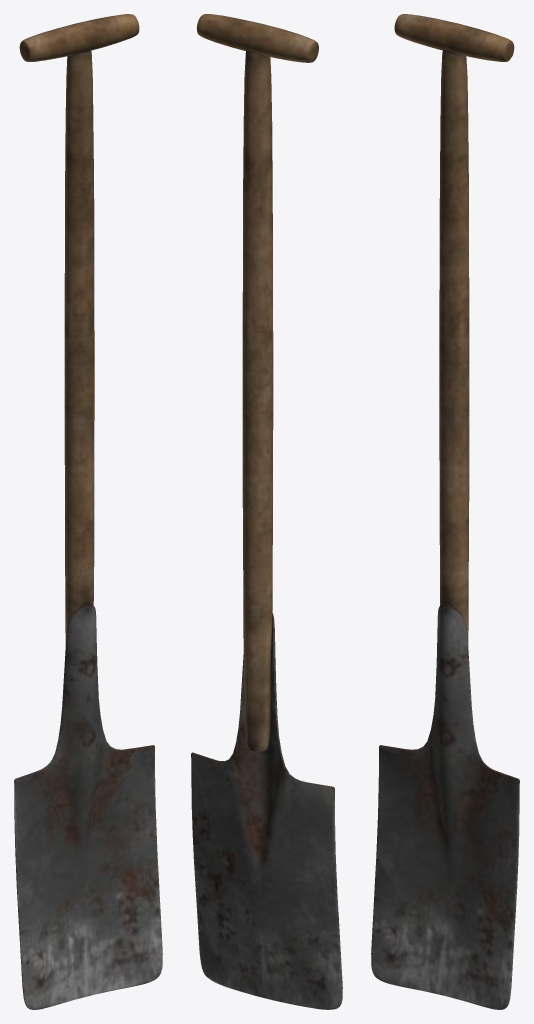
File: rusted_spade.glb
3 views of the same model, side by side, from view 1: azimuth 30°, elevation 25°; view 2: azimuth 150°, elevation 25°; view 3: azimuth 330°, elevation 25° (orthographic). The views are drawn at different scales.
Parts seen in each view (by area): view 1: rusted_spade_01; view 2: rusted_spade_01; view 3: rusted_spade_01.
Part boxes in pixels (x1,y1,x2,y2): rusted_spade_01: [14, 14, 162, 1009]; rusted_spade_01: [191, 14, 342, 1009]; rusted_spade_01: [371, 14, 519, 1009].
Size of the model in its own units: 0.1681 by 1.1 by 0.0454.
1 material, 1 textured.
